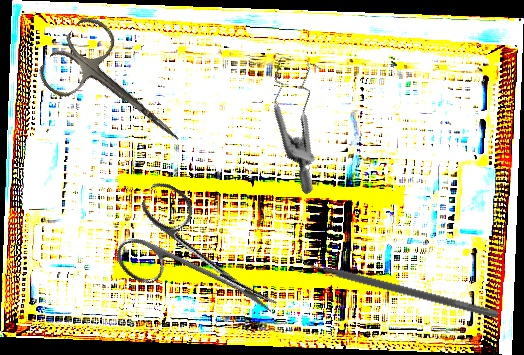Iris Scissors: (106, 177, 301, 348), (33, 10, 205, 174)
Spatula Surgical: (294, 251, 502, 319)
Speculum: (230, 42, 377, 196)
